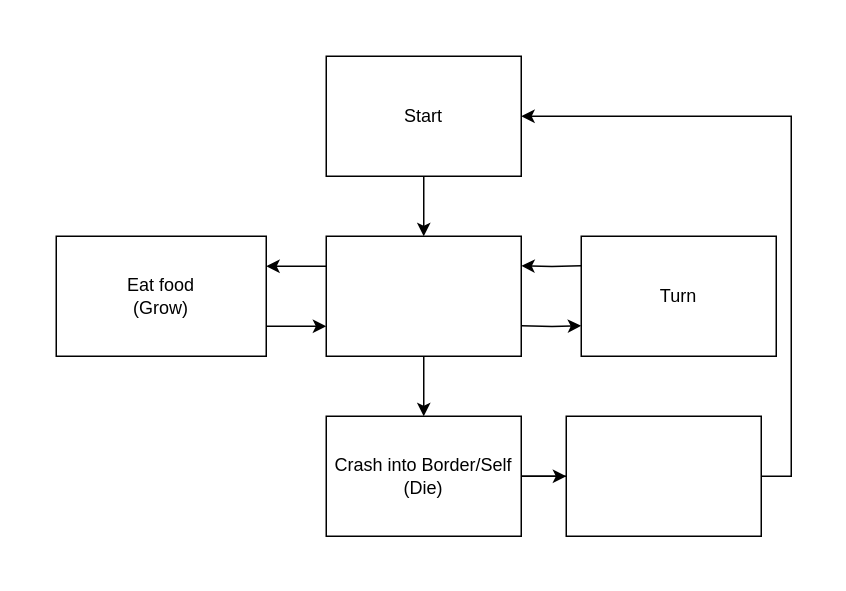
The diagram is 846 pixels wide and 591 high, and some of its shapes have lost their labels. Here are the shapes that lost their labels. From the top down, the box of each, then its label:
(325, 235, 521, 356): Snake move
(565, 415, 761, 536): Game Over
